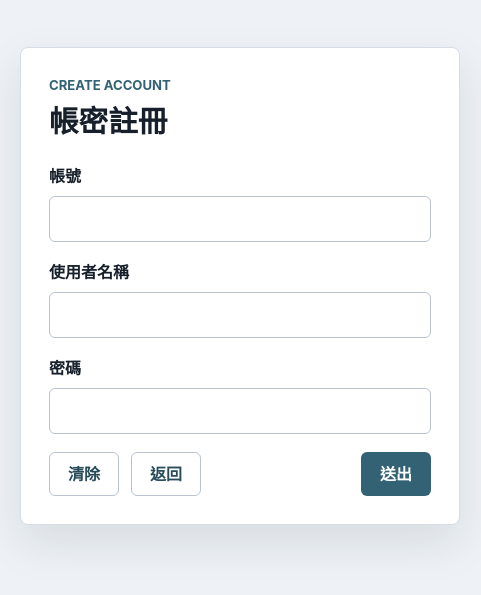
RegisterView › 使用者名稱不足 2 長時顯示錯誤訊息且不送出 API
Type "NEWUSER1" into the field labelled "帳號". click: (240, 219)
box: top-left (49, 196), bottom-right (431, 242)
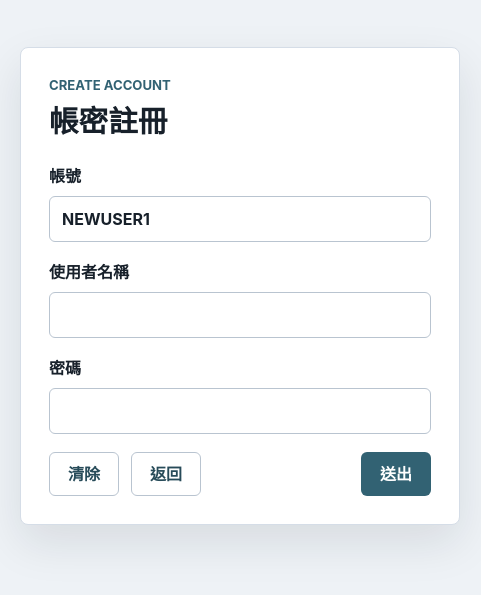
Type "王" into the field labelled "使用者名稱". click: (240, 315)
box: top-left (49, 292), bottom-right (431, 338)
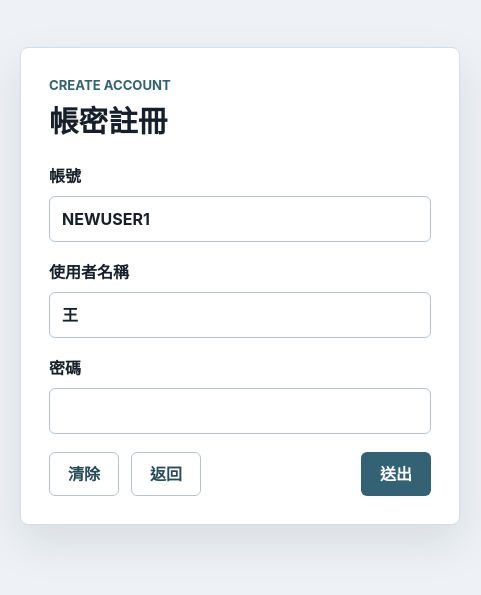
Type "DemoPass123!" into the password field labelled "密碼". click: (240, 411)
box: top-left (49, 388), bottom-right (431, 434)
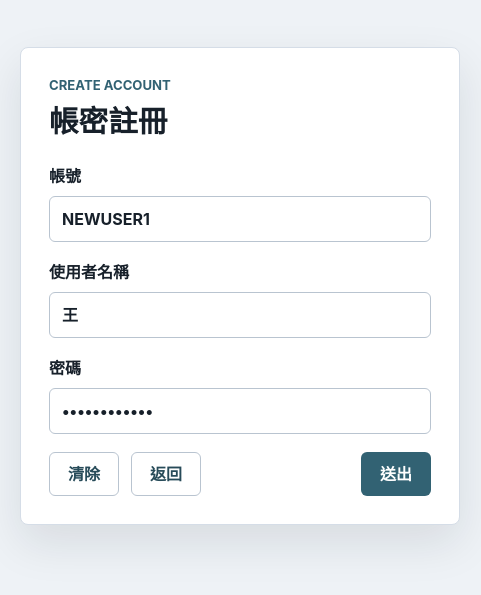
Click the button "送出". click: (396, 474)
box: top-left (361, 452), bottom-right (431, 496)
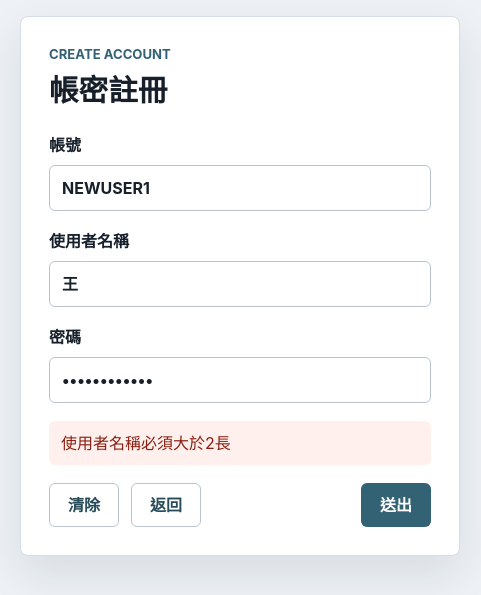
Now the message reads "使用者名稱必須大於2長", box top-left (61, 433), bottom-right (231, 453)
